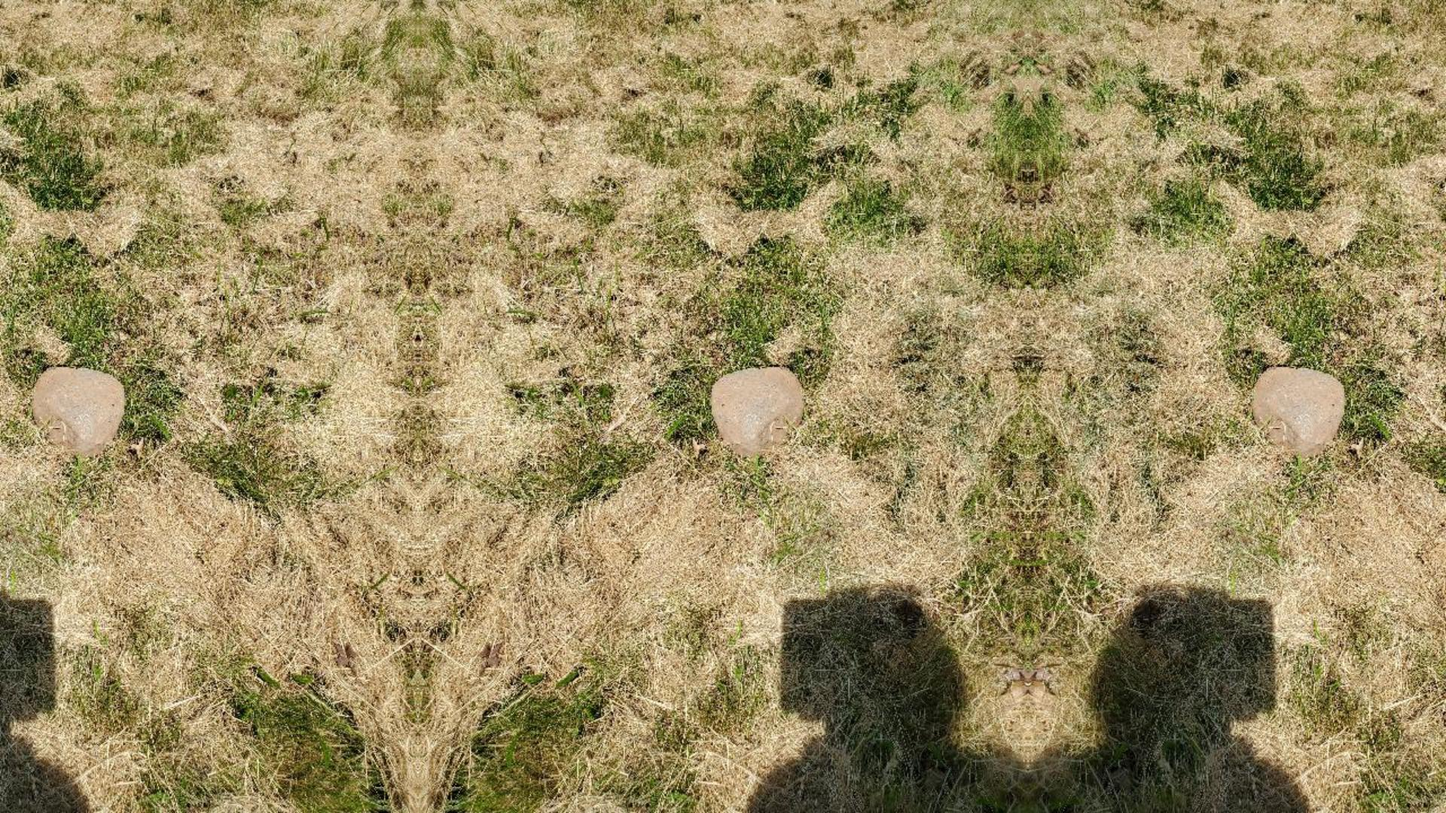rock: (711, 367, 803, 456), (1252, 367, 1344, 456), (32, 367, 124, 455)
